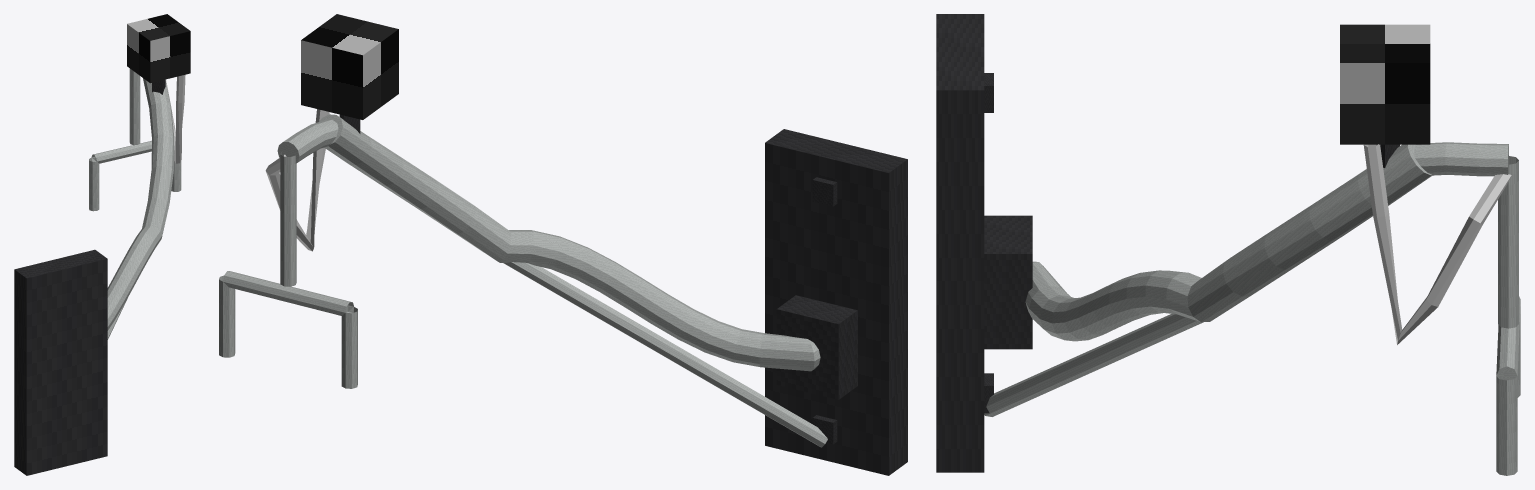
File: arm_1_right_flood_down_wired.obj
3 renders of one model, left to right at view 1: azimuth 30°, elevation 25°; view 2: azimuth 150°, elevation 25°; view 3: azimuth 270°, elevation 25°, orthographic. The views are drawn at different scales.
Parts seen in each view (by area): view 1: pole_light_mount_1_right_flood_down_wired; view 2: pole_light_mount_1_right_flood_down_wired; view 3: pole_light_mount_1_right_flood_down_wired.
Boxes of the visible parts, box(x1,y1,x2,y2) form: pole_light_mount_1_right_flood_down_wired: box(14, 14, 190, 475); pole_light_mount_1_right_flood_down_wired: box(219, 14, 907, 475); pole_light_mount_1_right_flood_down_wired: box(936, 14, 1520, 475).
Bounding box in the file's own units: 1.4 × 1.34 × 1.21.
